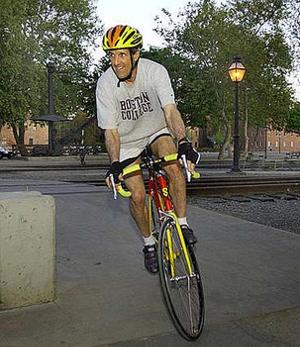person: (95, 24, 199, 275)
